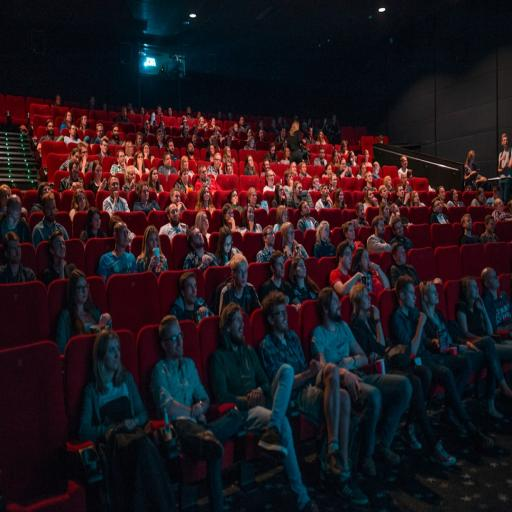face: (161, 322, 182, 359), (227, 311, 244, 346), (104, 338, 120, 371), (272, 305, 287, 332), (328, 293, 341, 322), (401, 284, 415, 309), (233, 264, 247, 287), (76, 278, 88, 304), (43, 200, 56, 223), (52, 236, 65, 259), (7, 241, 20, 264), (425, 285, 438, 305), (273, 256, 284, 278), (393, 247, 406, 265), (340, 248, 351, 268), (295, 259, 306, 278), (147, 232, 158, 251), (361, 250, 369, 273), (77, 192, 85, 211), (394, 222, 403, 238), (92, 213, 100, 231)
